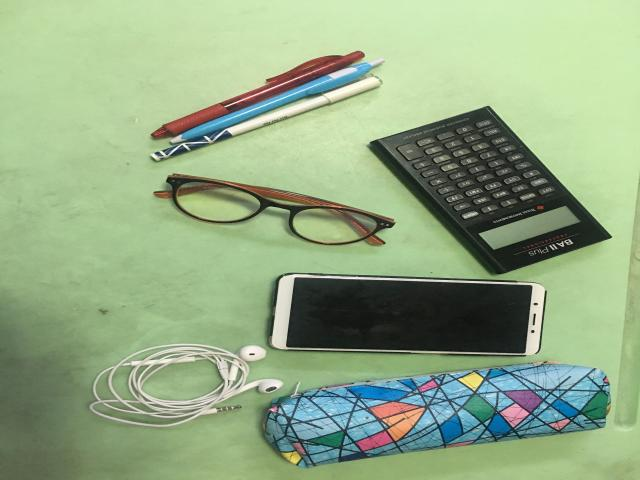Glasses: (155, 174, 395, 245)
Mobile phone: (270, 274, 545, 355)
Pen: (150, 52, 384, 164)
wire: (90, 344, 283, 428)
